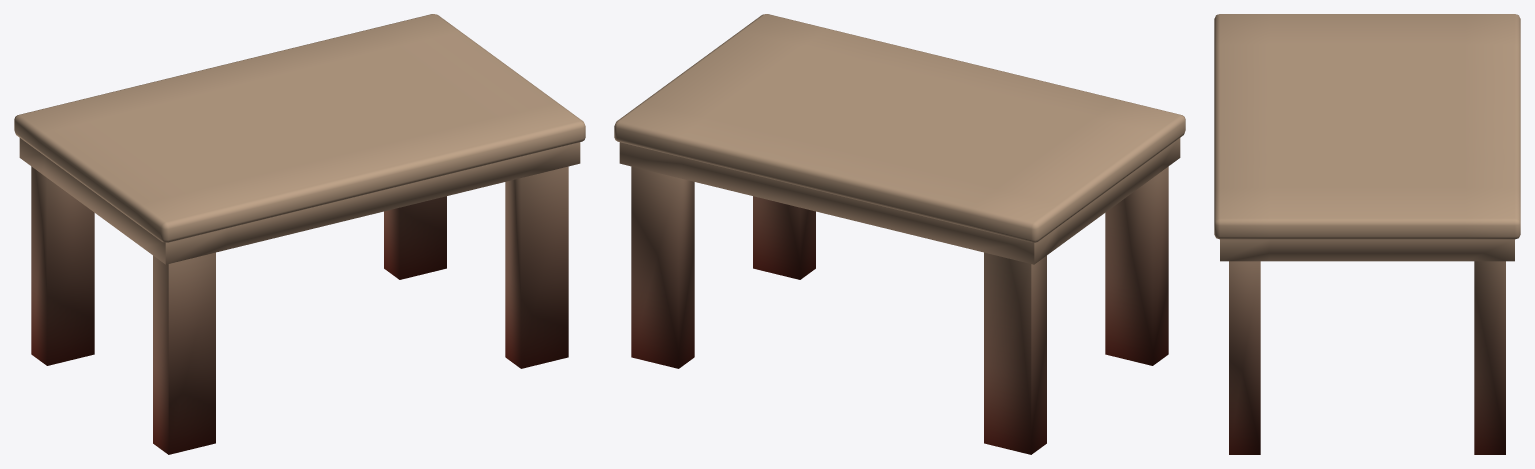
Rendered from Table.fbx.
3 views of the same model, side by side, from view 1: azimuth 30°, elevation 25°; view 2: azimuth 150°, elevation 25°; view 3: azimuth 270°, elevation 25° (orthographic).
Visible parts, largest first — view 1: Table; view 2: Table; view 3: Table.
Boxes of the visible parts, <box> form: Table: <box>14,14,585,454</box>; Table: <box>614,14,1185,454</box>; Table: <box>1214,14,1520,454</box>.
Bounding box in the file's own units: 1.56 × 0.8349 × 0.9658.
